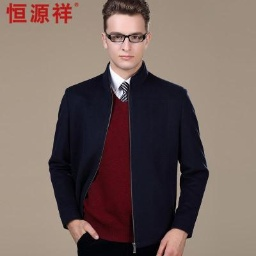face: (101, 2, 153, 69)
